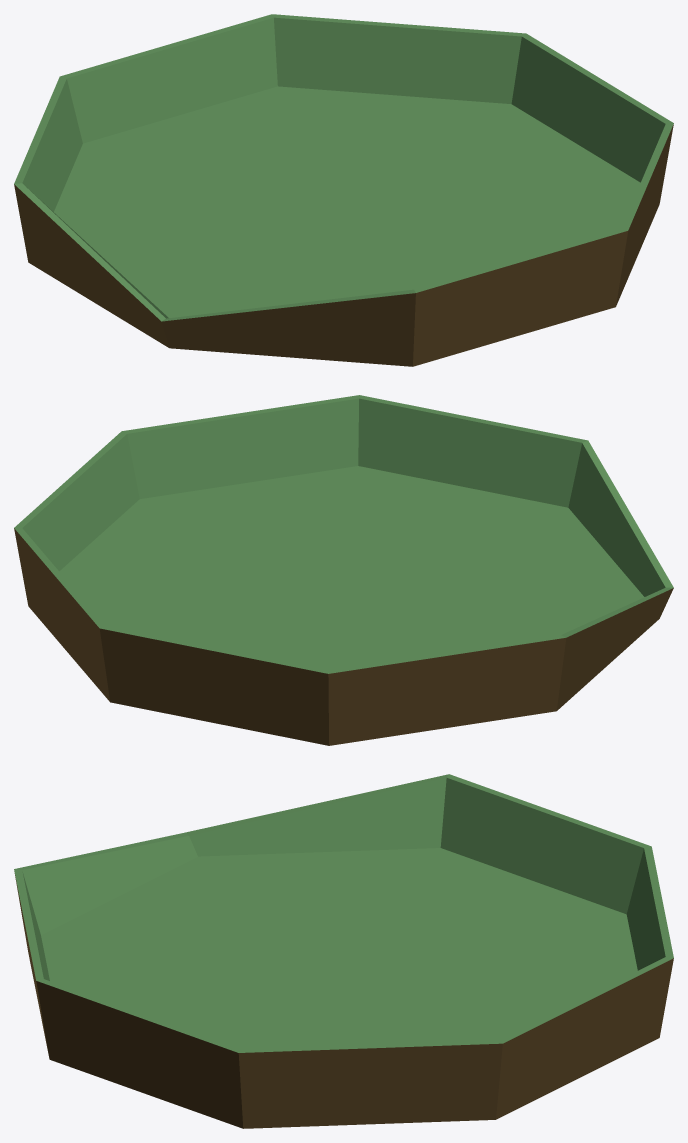
Rendered from vitoria_regia2.fbx.
The picture shows the model from 3 angles, top to bottom: view 1: azimuth 30°, elevation 25°; view 2: azimuth 150°, elevation 25°; view 3: azimuth 270°, elevation 25°; orthographic projection. The views are drawn at different scales.
Parts seen in each view (by area): view 1: vit2; view 2: vit2; view 3: vit2.
Boxes of the visible parts, bbox=[...] form: vit2: bbox=[14, 14, 673, 366]; vit2: bbox=[14, 395, 673, 745]; vit2: bbox=[14, 774, 673, 1128].
Bounding box in the file's own units: 2.43 × 0.3323 × 2.43.
